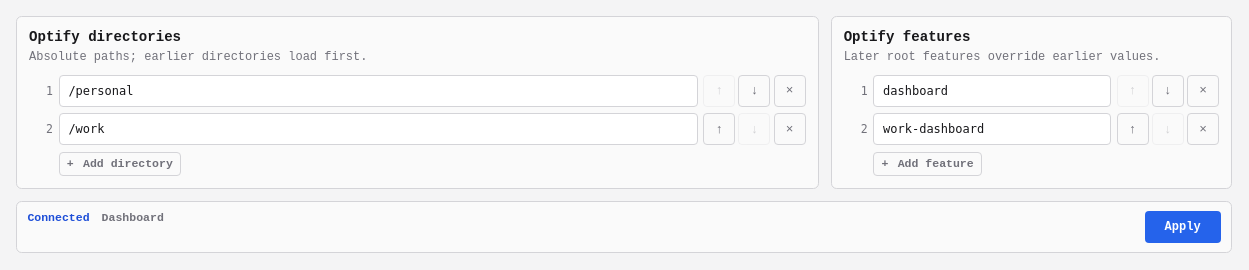
Scenario: OptionsPage › edits and applies directories before features while preserving their order
Expected: the text "Personal Dashboard" is not shown
Expected: the headings read "Optify directories", "Optify features", in this order, [29,29,181,45]; [844,29,970,45]
Click the button named "Move configuration directory 2 up". click: {"x": 719, "y": 129}
box: [703,113,735,145]
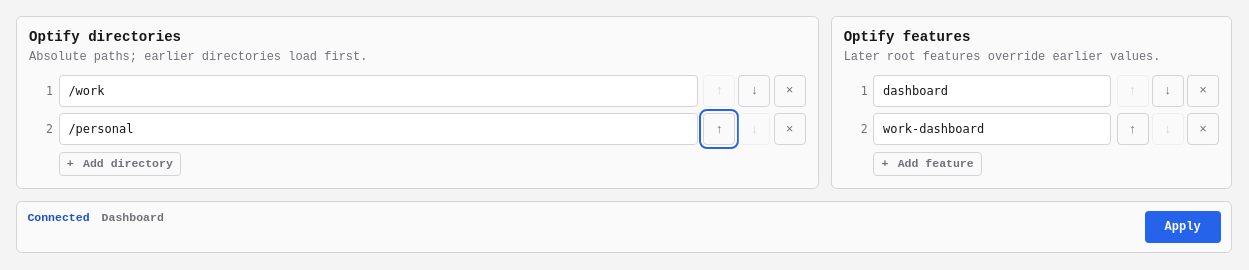
Click the button named "Move root feature 2 up". click: {"x": 1133, "y": 129}
box: [1117,113,1149,145]
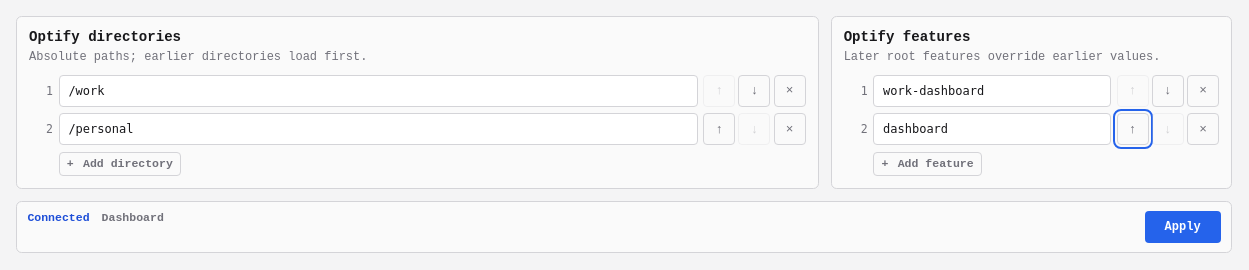
Click the button with aria-label "Apply Optify configuration". click: {"x": 1183, "y": 227}
box: [1145,211,1221,243]
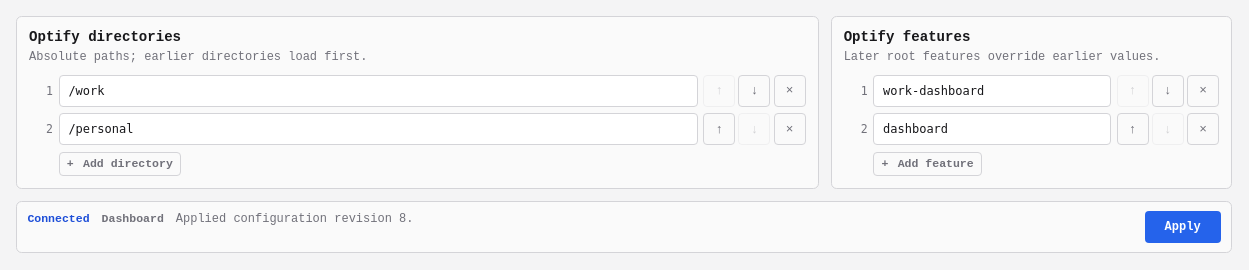
Expected: the text "Applied configuration revision 8." is shown, [176,211,413,227]
